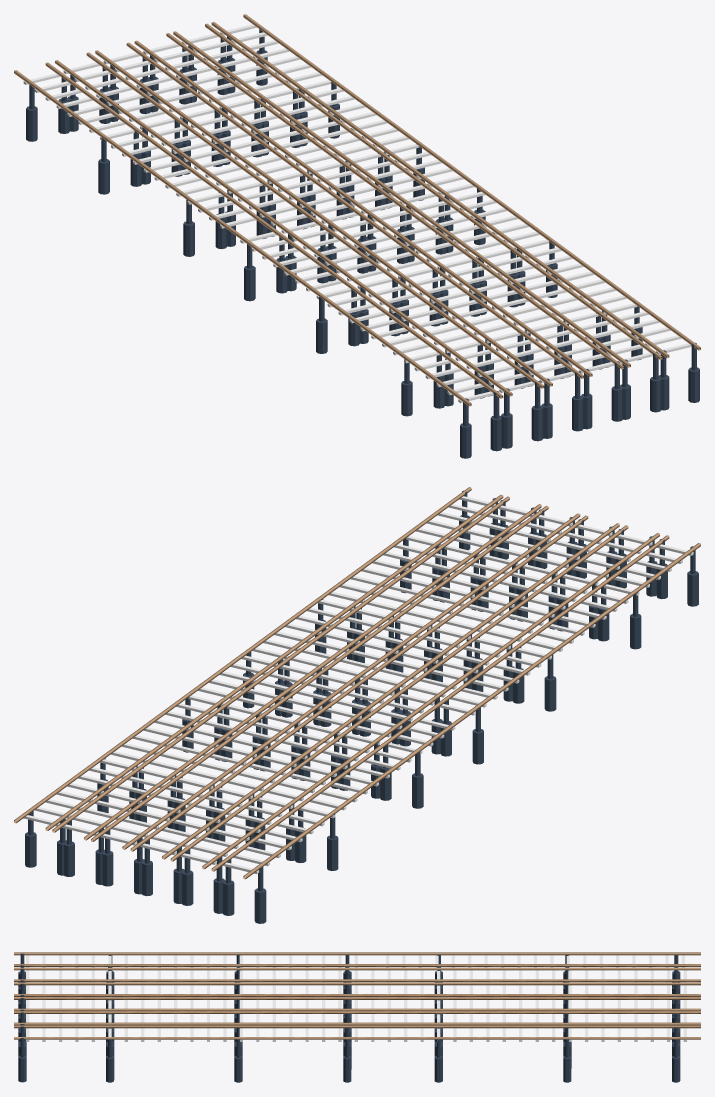
File: RC_Playground_09.fbx
The picture shows the model from 3 angles, top to bottom: view 1: azimuth 30°, elevation 25°; view 2: azimuth 150°, elevation 25°; view 3: azimuth 270°, elevation 25°; orthographic projection. The views are drawn at different scales.
Parts seen in each view (by area): view 1: Columns.020, RailStep.023, RailStep.022, RailStep.025, RailStep.026, RailStep.027, RailStep.028, RailStep.031, RailStep.032, RailStep.030, RailStep.034, RailStep.033 (+24 smaller); view 2: Columns.020, RailStep.022, RailStep.023, RailStep.026, RailStep.025, RailStep.028, RailStep.027, RailStep.031, RailStep.030, RailStep.032, RailStep.034, RailStep.033 (+24 smaller); view 3: Path.034, Path.028, Path.030, Path.032, Path.035, Path.031, Path.023, Path.024, Path.026, Path.029, Path.033, Path.027 (+24 smaller).
Part boxes in pixels (x1,y1,x2,y2): Columns.020: (244, 236, 502, 458); RailStep.023: (281, 222, 534, 393); RailStep.022: (240, 232, 493, 403); RailStep.025: (321, 212, 574, 383); RailStep.026: (361, 202, 614, 373); RailStep.027: (399, 193, 652, 363); RailStep.028: (438, 183, 691, 354); RailStep.031: (103, 52, 347, 215); RailStep.032: (143, 43, 386, 206); RailStep.030: (63, 62, 306, 225); RailStep.034: (220, 24, 463, 186); RailStep.033: (182, 33, 425, 196); Columns.020: (440, 539, 698, 764); RailStep.022: (439, 544, 693, 715); RailStep.023: (398, 534, 652, 705); RailStep.026: (318, 515, 572, 685); RailStep.025: (358, 524, 612, 695); RailStep.028: (241, 496, 495, 666); RailStep.027: (280, 505, 534, 676); RailStep.031: (140, 692, 383, 855); RailStep.030: (180, 701, 423, 864); RailStep.032: (100, 682, 344, 845); RailStep.034: (23, 663, 267, 826); RailStep.033: (62, 673, 305, 835); Path.034: (357, 1011, 700, 1025); Path.028: (14, 1011, 357, 1025); Path.030: (357, 952, 700, 966); Path.032: (357, 982, 700, 996); Path.035: (357, 1025, 700, 1039); Path.031: (357, 967, 700, 981); Path.023: (14, 952, 357, 966); Path.024: (14, 967, 357, 981); Path.026: (14, 982, 357, 996); Path.029: (14, 1025, 357, 1039); Path.033: (357, 997, 700, 1010); Path.027: (14, 997, 357, 1010).
Size of the model in its own units: 1606 by 366 by 5293.
